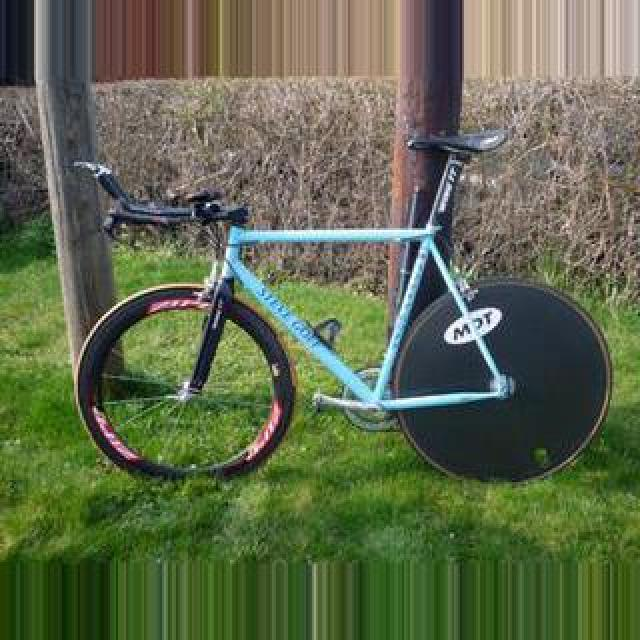Person: (57, 87, 607, 495)
